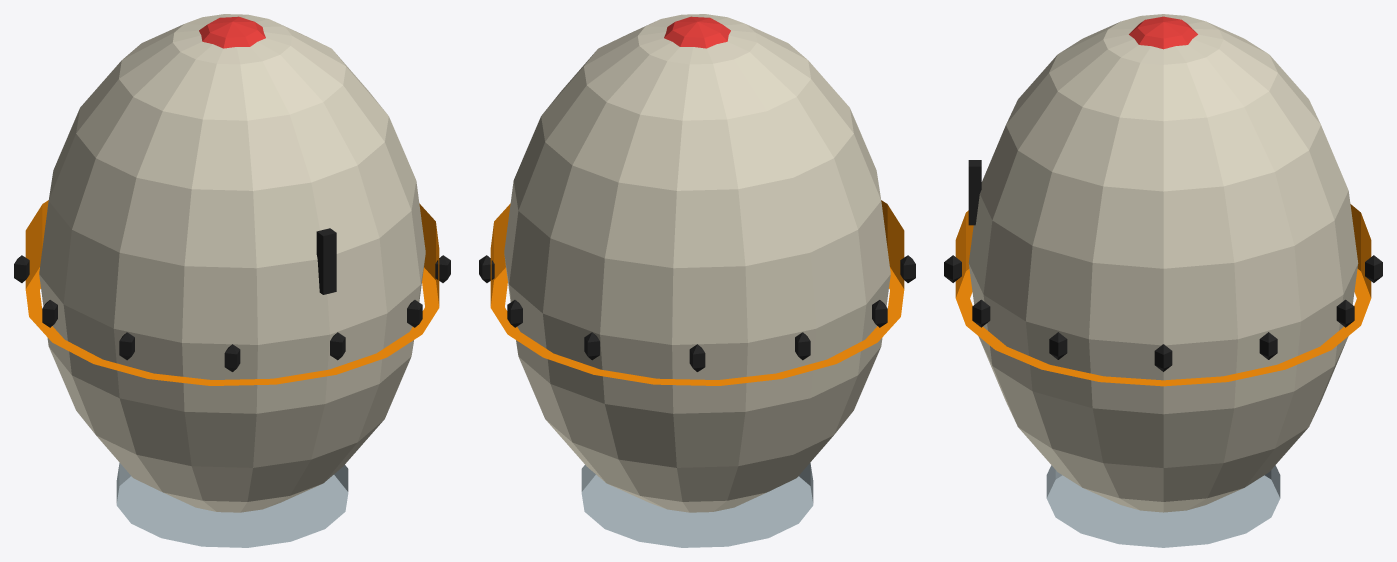
File: aggklocka.glb
The picture shows the model from 3 angles, left to right: view 1: azimuth 30°, elevation 25°; view 2: azimuth 150°, elevation 25°; view 3: azimuth 270°, elevation 25°; orthographic projection.
Parts seen in each view (by area): view 1: aggklocka; view 2: aggklocka; view 3: aggklocka.
Boxes of the visible parts, left/top/right/bottom form: aggklocka: left=14, top=14, right=450, bottom=547; aggklocka: left=479, top=14, right=915, bottom=547; aggklocka: left=944, top=14, right=1382, bottom=547.
Bounding box in the file's own units: 0.3379 × 0.405 × 0.3379.
